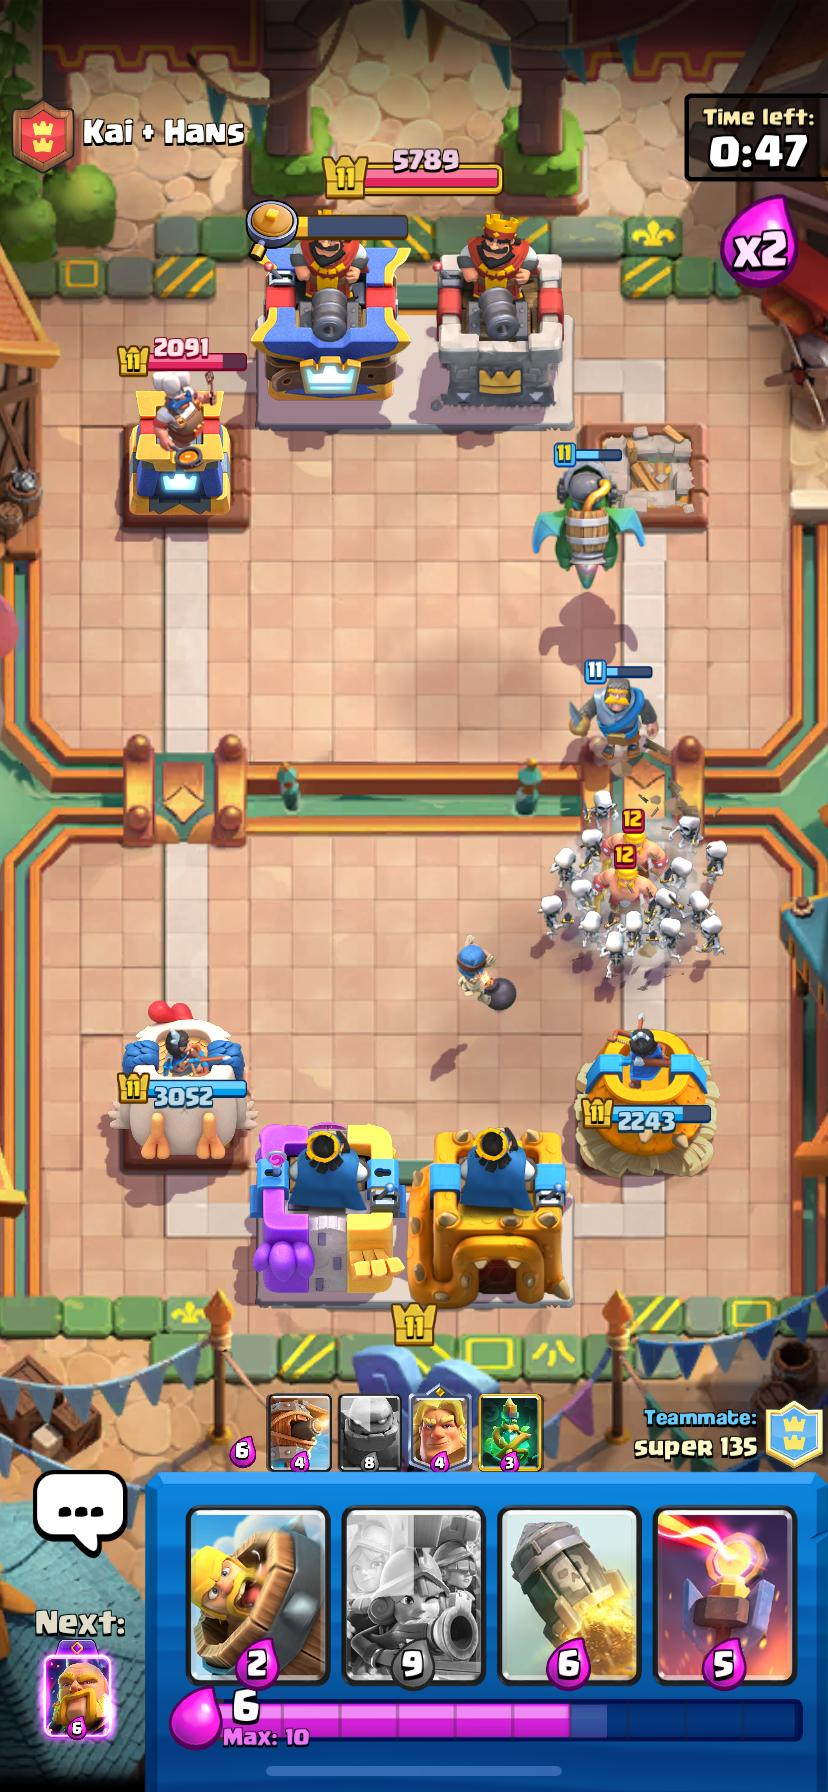EBarb: (604, 834, 667, 878), (600, 869, 653, 907)
EKingTower: (247, 205, 409, 400), (436, 213, 564, 406)
EnemyPanTower: (124, 386, 236, 523)
OBomber: (457, 935, 493, 997)
OInfernoDrag: (534, 463, 638, 587)
OKnight: (570, 677, 656, 745)
OLarry: (582, 789, 618, 841), (602, 925, 632, 976), (669, 814, 700, 858), (574, 827, 603, 874), (662, 855, 691, 901), (579, 907, 605, 955), (539, 894, 564, 941), (696, 910, 722, 955), (659, 917, 682, 965), (685, 889, 712, 929), (551, 847, 576, 888), (704, 840, 726, 882), (626, 907, 645, 953), (570, 877, 591, 907), (654, 885, 675, 917)
OwnKingTower: (408, 1128, 571, 1307), (252, 1123, 401, 1303)
OwnPrincessTower: (109, 1002, 255, 1161), (576, 1026, 716, 1175)
TowerDown: (579, 422, 706, 526)
